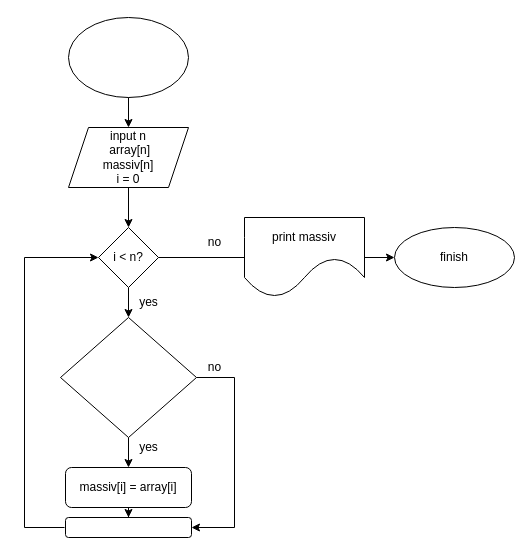
Image size: 532x555. Some labels were removed from this diagram. The box of each missing label's shape, as (x1, y1, x2, y2) in pixels:
array[i].Length < 4?: (60, 316, 196, 438)
i++: (64, 516, 192, 538)
start: (68, 16, 188, 98)
